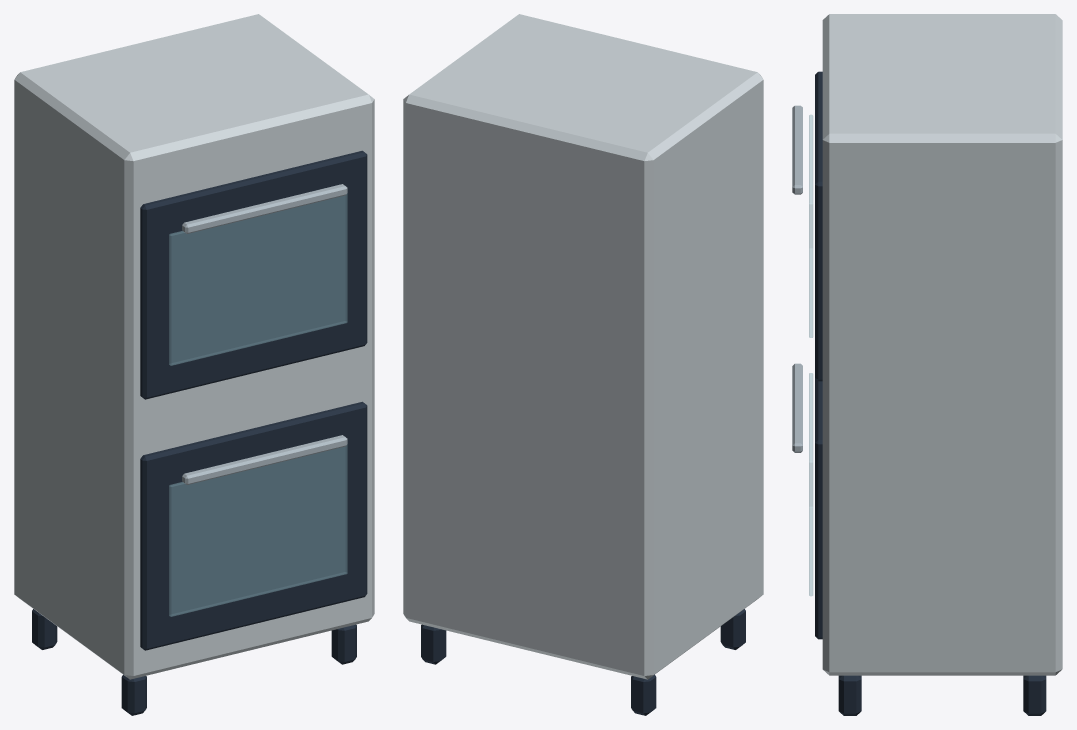
The model's file is restaurant_03.glb.
3 renders of one model, left to right at view 1: azimuth 30°, elevation 25°; view 2: azimuth 150°, elevation 25°; view 3: azimuth 270°, elevation 25°, orthographic. The views are drawn at different scales.
Visible parts, largest first — view 1: OvenStack, OvenFront (×2), OvenGlass (×2), Handle (×2), Leg (×3); view 2: OvenStack, Leg (×3); view 3: OvenStack, OvenFront (×2), OvenGlass (×2), Handle (×2), Leg (×2).
Boxes of the visible parts, x1=… form: OvenStack: x1=14, y1=14, x2=374, y2=679; OvenFront (×2): x1=140, y1=150, x2=367, y2=650; OvenGlass (×2): x1=169, y1=193, x2=347, y2=616; Handle (×2): x1=182, y1=184, x2=347, y2=484; Leg (×3): x1=32, y1=609, x2=356, y2=715; OvenStack: x1=403, y1=14, x2=763, y2=679; Leg (×3): x1=421, y1=609, x2=745, y2=715; OvenStack: x1=822, y1=14, x2=1062, y2=675; OvenFront (×2): x1=815, y1=71, x2=822, y2=639; OvenGlass (×2): x1=809, y1=114, x2=813, y2=596; Handle (×2): x1=792, y1=105, x2=802, y2=452; Leg (×2): x1=838, y1=675, x2=1046, y2=715.
Size of the model in its own units: 0.78 by 1.7 by 0.709.
